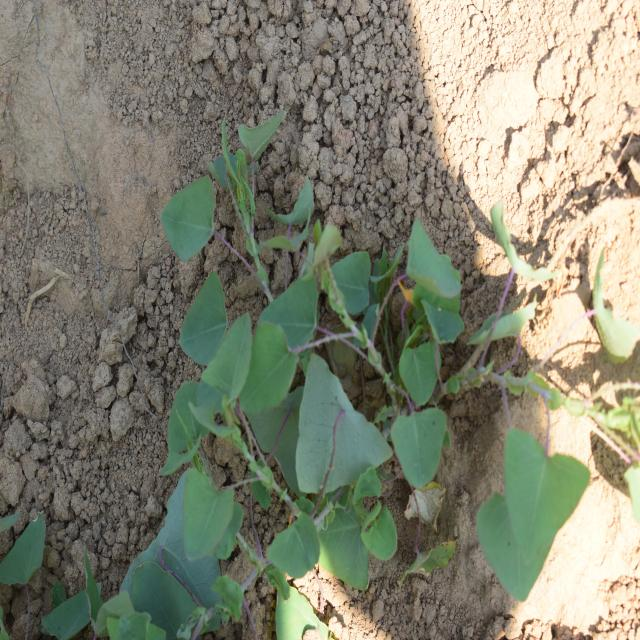Asiatic_Smartweed: (395, 205, 574, 583), (160, 94, 348, 436), (142, 446, 394, 582)
